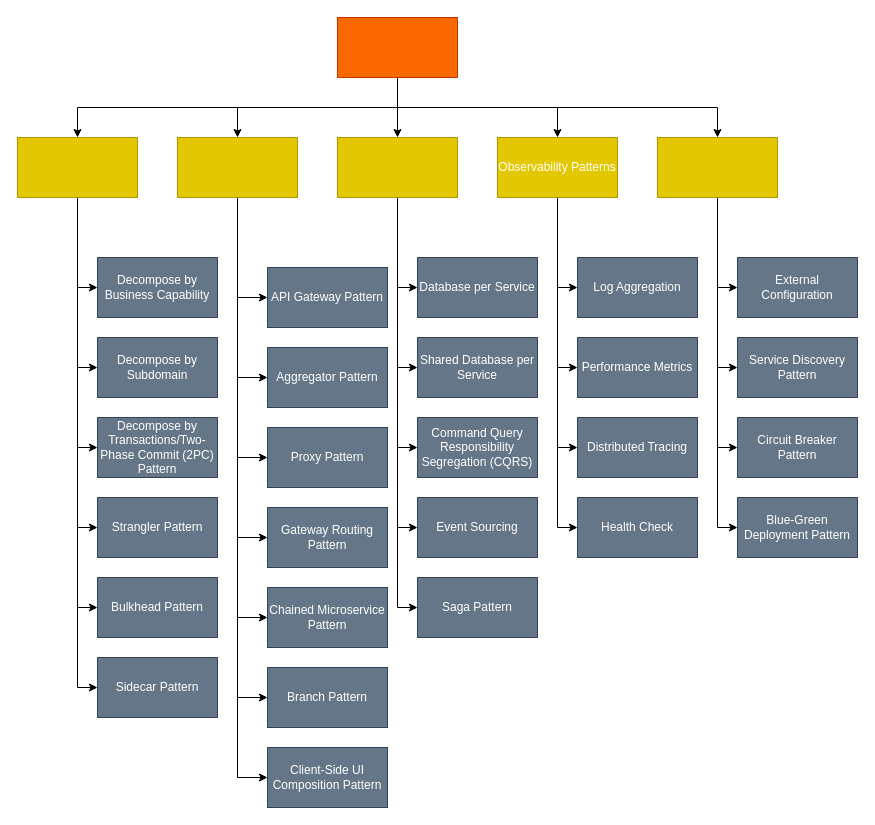
This 875x825 diagram has some shape labels left out. Each missing label, with the centre of its shape:
Cross-Cutting Concern Patterns: the point at 717,167
Database Patterns: the point at 397,167
Decomposition Patterns: the point at 77,167
Design Patterns for Microservices: the point at 397,47
Integration Patterns: the point at 237,167
